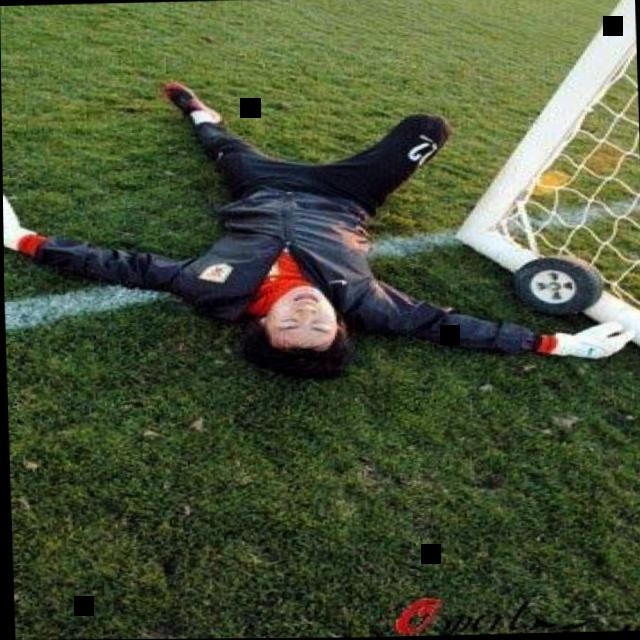Fall-Detected: (1, 43, 635, 393)
